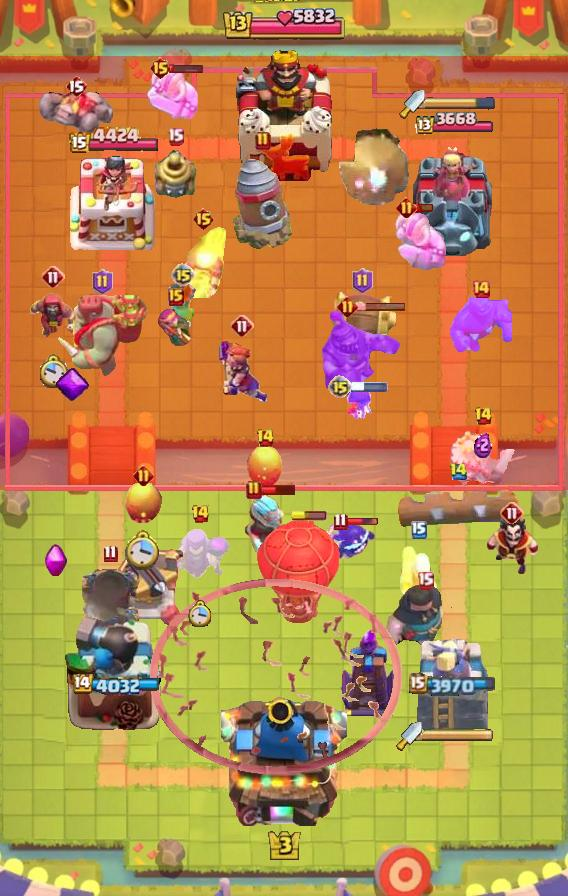archer: (158, 309, 194, 357)
bar: (355, 301, 407, 312), (260, 483, 297, 496), (169, 63, 204, 74), (350, 382, 388, 392), (291, 511, 327, 521), (345, 517, 379, 527), (414, 202, 434, 213)
bar-level: (500, 501, 524, 525), (328, 375, 352, 399), (230, 314, 254, 338), (41, 265, 65, 289), (171, 263, 195, 287), (192, 207, 215, 231), (149, 56, 172, 80), (92, 269, 113, 295), (352, 268, 373, 294), (65, 74, 87, 98), (133, 465, 154, 486), (337, 296, 358, 317), (396, 197, 417, 218), (471, 279, 491, 299), (191, 504, 210, 524), (256, 428, 275, 448), (474, 406, 493, 426), (449, 462, 468, 481), (417, 571, 434, 590), (167, 127, 184, 146), (246, 480, 262, 500), (255, 131, 271, 151), (411, 521, 427, 539), (168, 288, 184, 306), (103, 544, 118, 563), (333, 512, 348, 531)
barbarian-barrel: (325, 291, 399, 343)
cannoneer-tower: (63, 615, 165, 731)
clock: (125, 528, 162, 570), (38, 354, 68, 390), (188, 600, 212, 627)
dagger-duchess-tower: (409, 142, 497, 256), (416, 637, 490, 731)
dagger-duchess-tower-bar: (422, 729, 494, 743), (425, 97, 495, 111)
electro-spirit: (327, 519, 377, 561)
electro-wizard: (484, 514, 540, 578)
elite-barbarian: (145, 67, 201, 123), (394, 213, 448, 271)
elixir: (474, 431, 492, 458)
elixir-golem-mid: (450, 293, 512, 353)
evolution-symbol: (54, 367, 89, 403), (42, 544, 67, 578)
firecracker: (398, 543, 440, 601)
golemite: (39, 89, 113, 151)
ice-wizard: (242, 491, 292, 557)
king-tower: (221, 690, 347, 826), (232, 45, 336, 181)
king-tower-bar: (221, 5, 347, 45)
mortar: (78, 567, 142, 633)
mother-witch: (169, 528, 231, 582)
phoenix-egg: (123, 481, 163, 525), (245, 445, 285, 489)
queen-tower: (67, 152, 161, 256)
royal-ghost: (449, 430, 517, 498)
skeleton-evolution: (342, 383, 375, 423)
the-log: (394, 484, 522, 530)
tower-bar: (68, 126, 160, 156), (70, 674, 159, 697), (409, 673, 498, 696), (413, 112, 493, 137)
valkyrie: (164, 278, 202, 330)
valkyrie-evolution: (214, 338, 270, 404)
wizard: (177, 226, 229, 298), (28, 290, 78, 346)
zappy: (151, 150, 199, 200)
